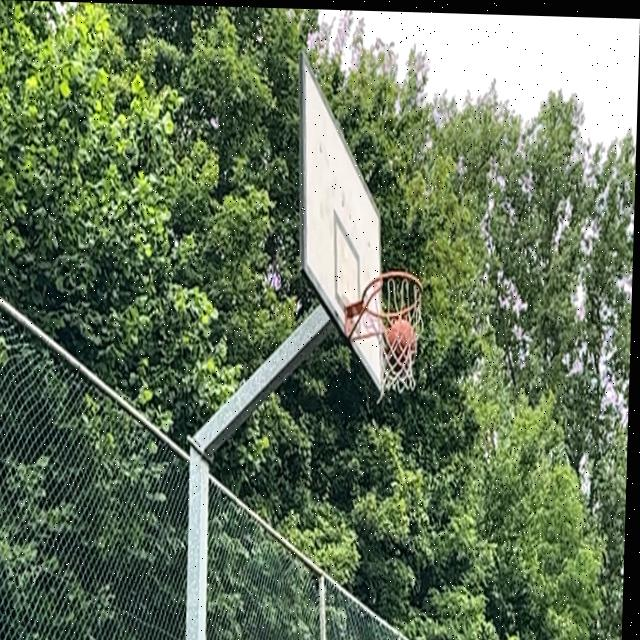Goal: (383, 320, 417, 373)
